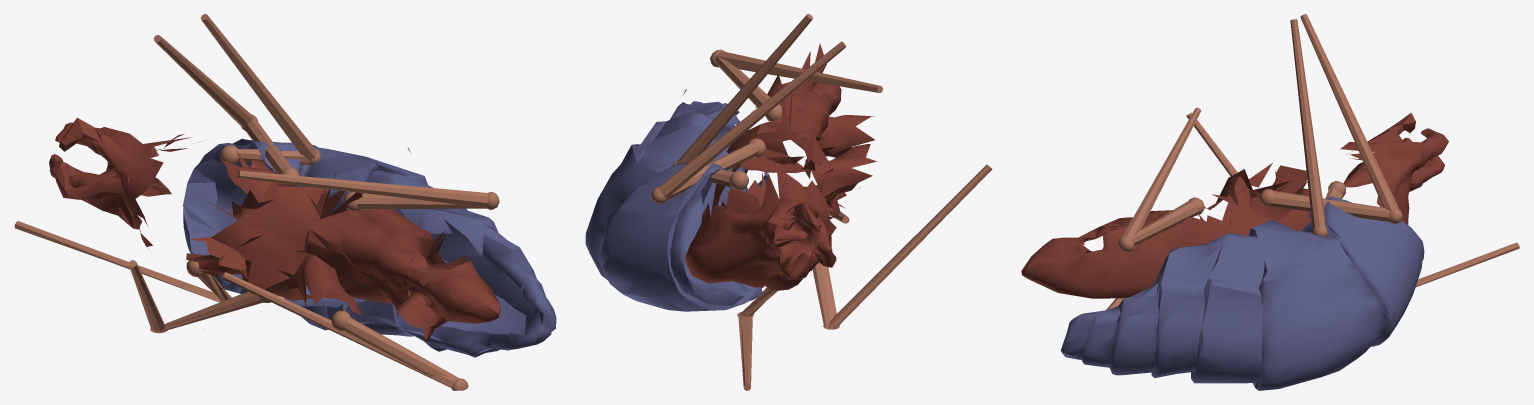
The model's file is big-biter-corpse-2.glb.
3 renders of one model, left to right at view 1: azimuth 30°, elevation 25°; view 2: azimuth 150°, elevation 25°; view 3: azimuth 270°, elevation 25°, orthographic. The views are drawn at different scales.
Parts seen in each view (by area): view 1: body; view 2: body; view 3: body.
Part boxes in pixels (box(x1,y1,x2,y2)): body: box(14, 14, 556, 390); body: box(585, 14, 992, 390); body: box(1021, 14, 1519, 390).
Bounding box in the file's own units: 2.87 × 2.3 × 3.75.
